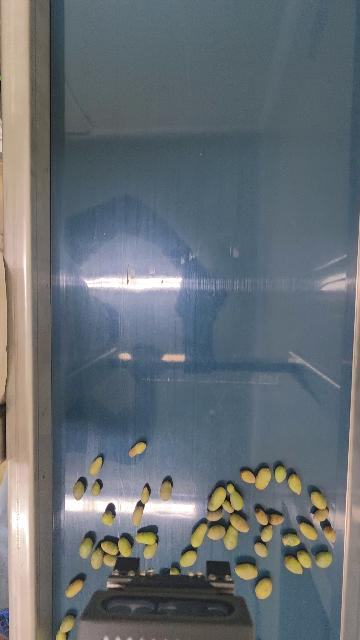Baby Potato: (226, 483, 245, 512), (207, 485, 227, 512), (234, 561, 259, 581), (254, 576, 274, 601), (190, 522, 209, 548), (229, 512, 251, 534), (298, 519, 319, 542), (283, 552, 304, 575), (255, 466, 272, 492), (64, 577, 84, 599), (223, 526, 240, 550), (287, 472, 303, 496), (315, 549, 334, 569), (309, 490, 328, 510), (296, 548, 313, 569), (78, 536, 93, 559), (207, 523, 227, 540), (281, 531, 302, 547), (180, 549, 198, 567), (253, 507, 270, 526), (90, 547, 104, 569), (135, 531, 157, 545), (322, 524, 338, 543), (60, 614, 76, 633), (118, 537, 133, 557), (72, 480, 86, 501), (89, 455, 103, 476), (128, 441, 146, 457), (100, 539, 118, 555), (259, 524, 275, 542), (274, 464, 288, 484), (253, 541, 269, 558), (312, 508, 330, 523), (160, 480, 172, 502), (240, 468, 256, 484), (132, 504, 144, 525), (268, 512, 285, 526), (102, 553, 118, 567), (206, 510, 223, 523), (143, 544, 157, 559), (102, 510, 114, 526), (140, 485, 150, 504), (91, 480, 101, 496), (55, 630, 68, 640), (169, 567, 179, 576)
